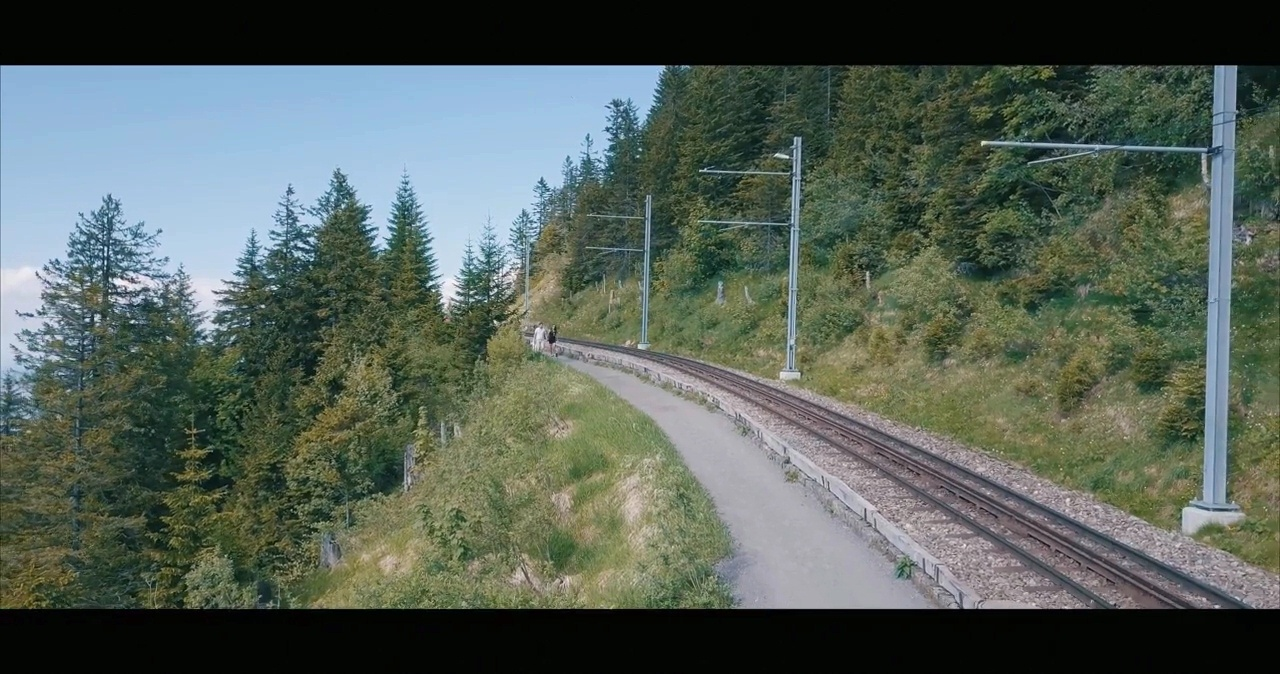insan: (543, 316, 563, 359), (531, 319, 544, 356)
